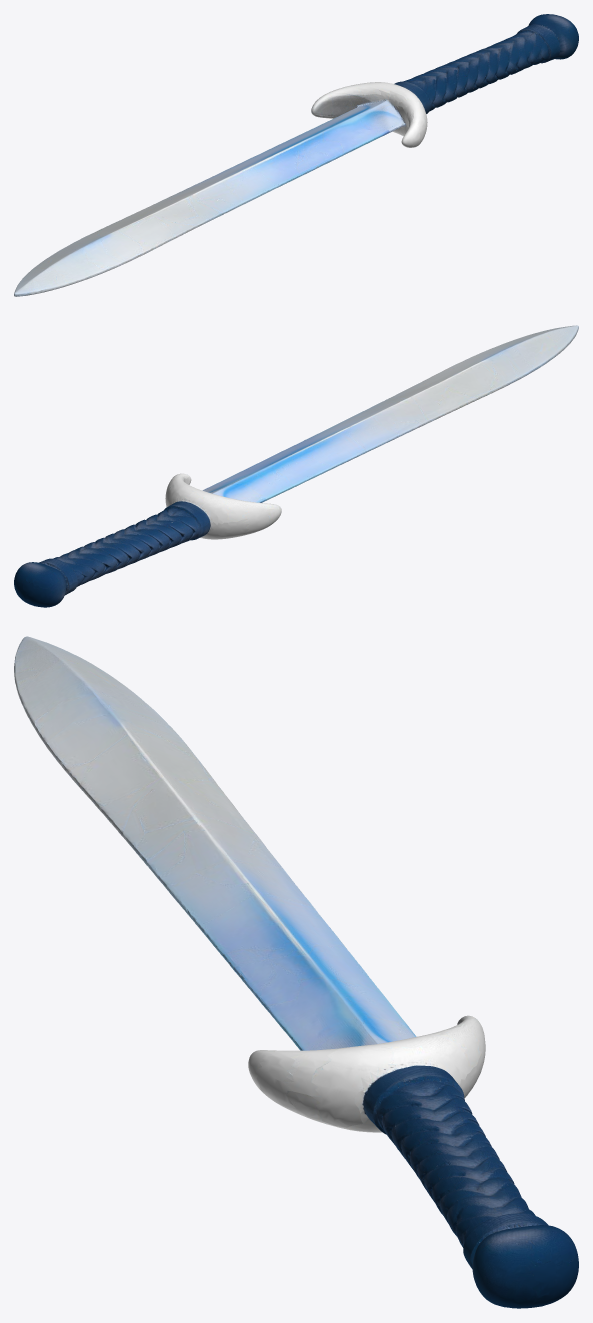
File: hf_dagger.glb
3 views of the same model, one above another, from view 1: azimuth 30°, elevation 25°; view 2: azimuth 210°, elevation 25°; view 3: azimuth 270°, elevation 25° (orthographic). The views are drawn at different scales.
Size of the model in its own units: 1.9 by 0.1149 by 0.7005.
Materials: 1 (1 with a texture image).
